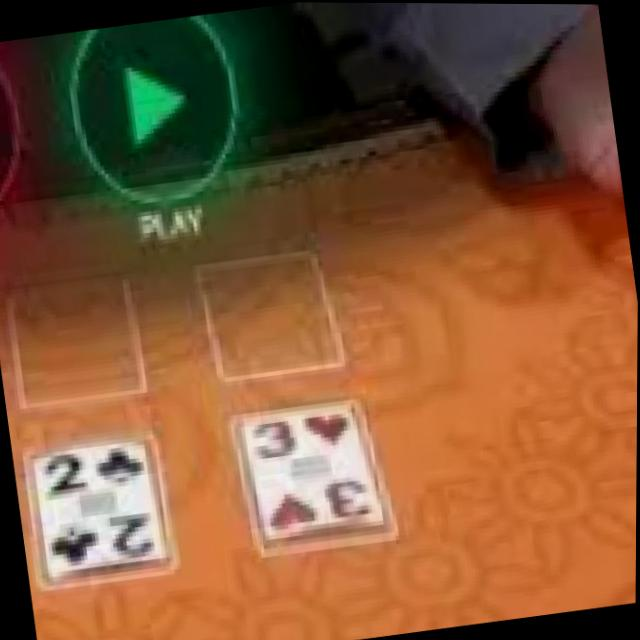Card-2: (33, 442, 163, 575)
Card-3: (244, 407, 382, 537)
